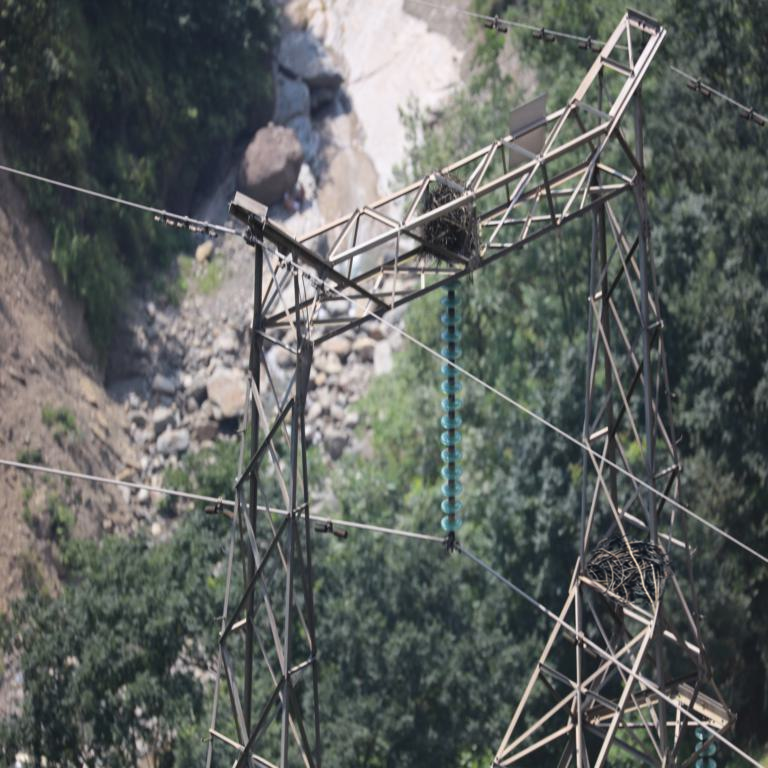nest: (420, 175, 481, 265), (588, 538, 667, 596)
